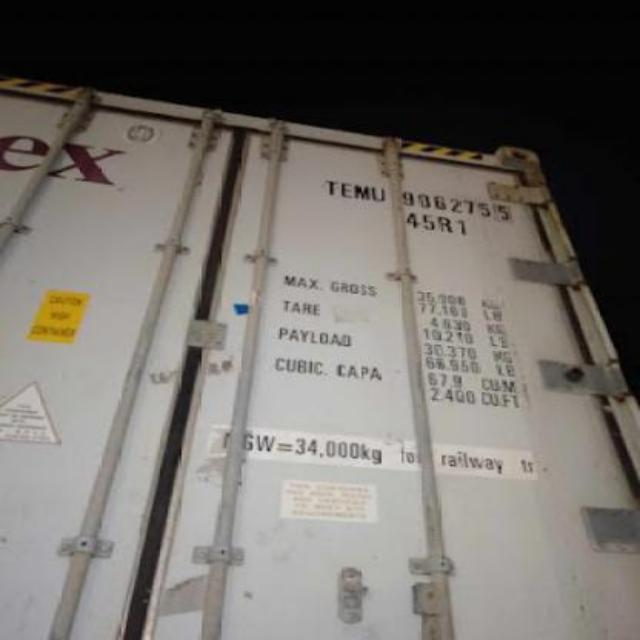0: (416, 190, 429, 212)
2: (451, 194, 464, 216)
5: (494, 200, 512, 224), (478, 200, 492, 224)
6: (432, 190, 448, 213)
7: (462, 197, 478, 220)
9: (402, 188, 416, 210)
E: (341, 180, 354, 202)
M: (356, 177, 372, 206)
T: (320, 176, 338, 200)
U: (370, 181, 390, 205)
